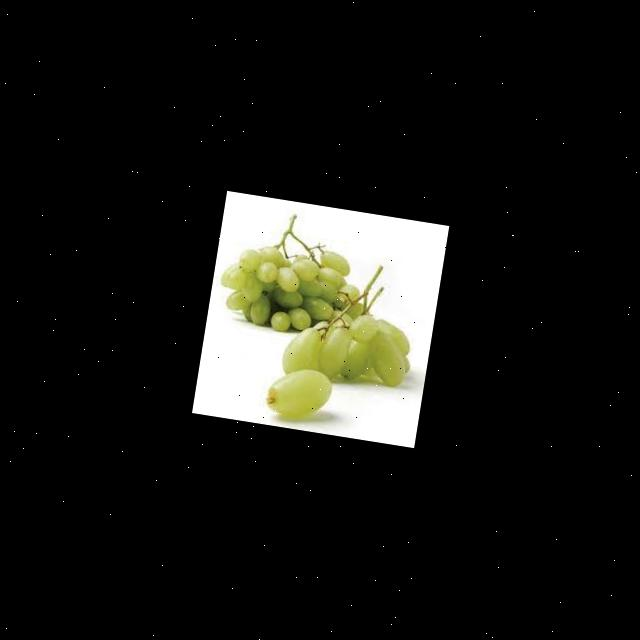grape: (221, 229, 369, 338), (282, 296, 412, 394)
